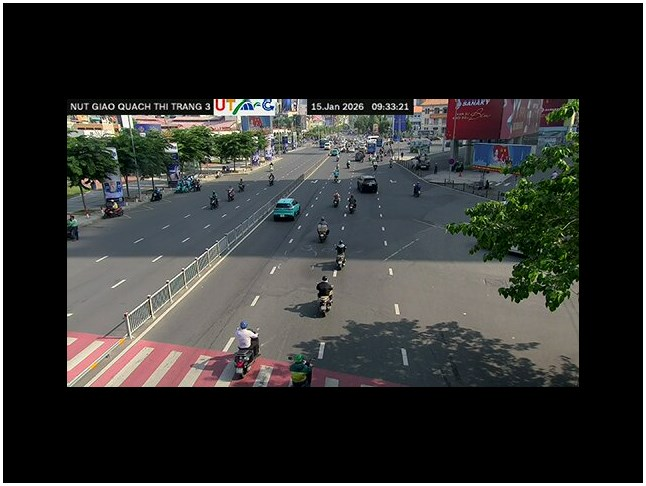car: (273, 197, 300, 221), (358, 175, 379, 194)
